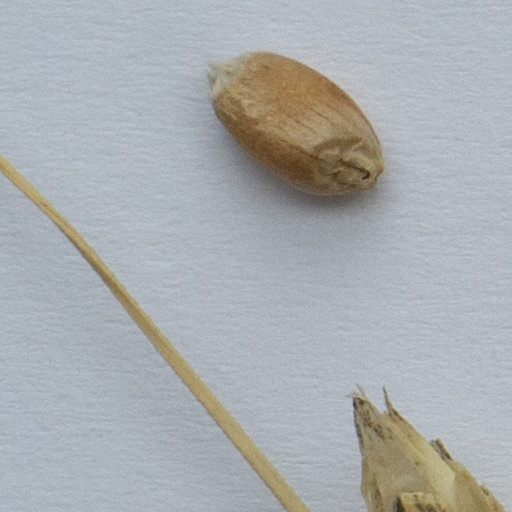Peel-poly: (0, 156, 318, 511), (352, 395, 506, 511)
